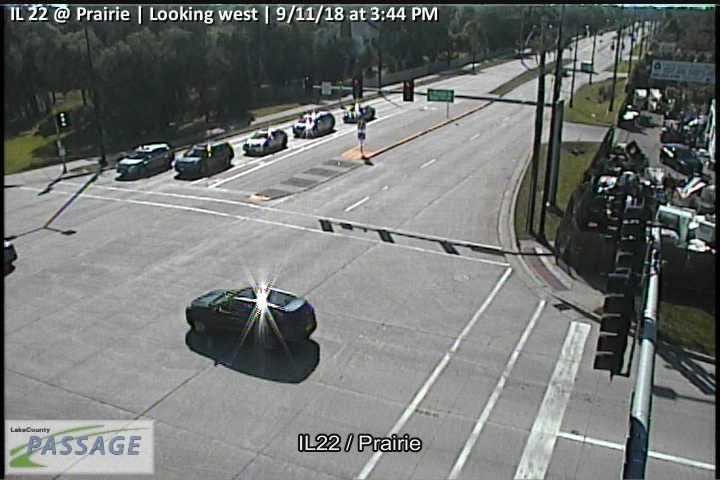SUV: (185, 283, 318, 350), (173, 140, 235, 175), (115, 142, 174, 175), (292, 110, 335, 137)
Sedan: (243, 125, 288, 154), (343, 104, 376, 123)
